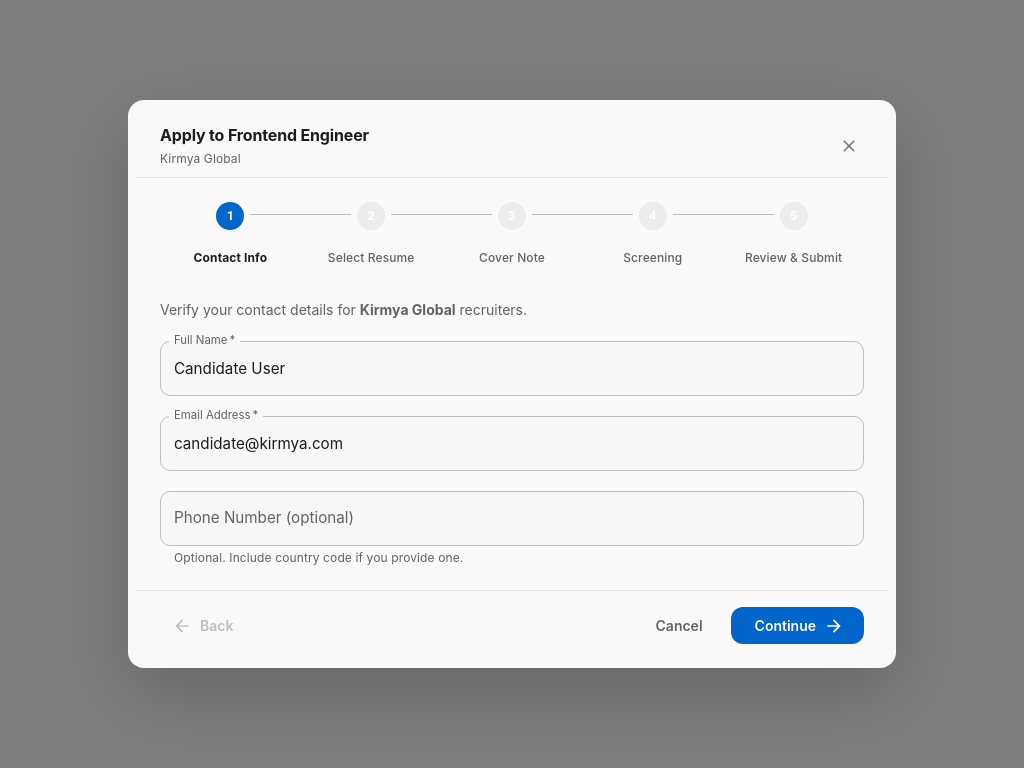
Test case: ApplyJobModal › blocks progression on step 0 if email is empty
This screenshot has width=1024, height=768.
Clear the field labelled "Email Address *" at (512, 443), box [160,416,864,471]
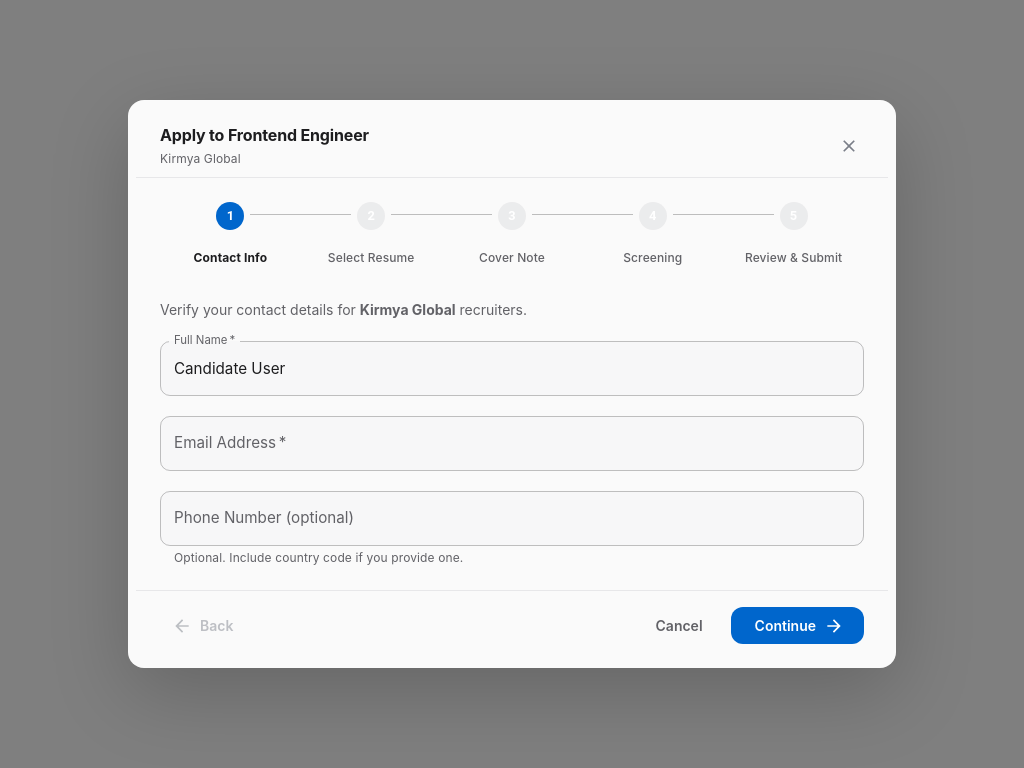
Click the button "Continue" at (797, 626), box [731,607,864,644]
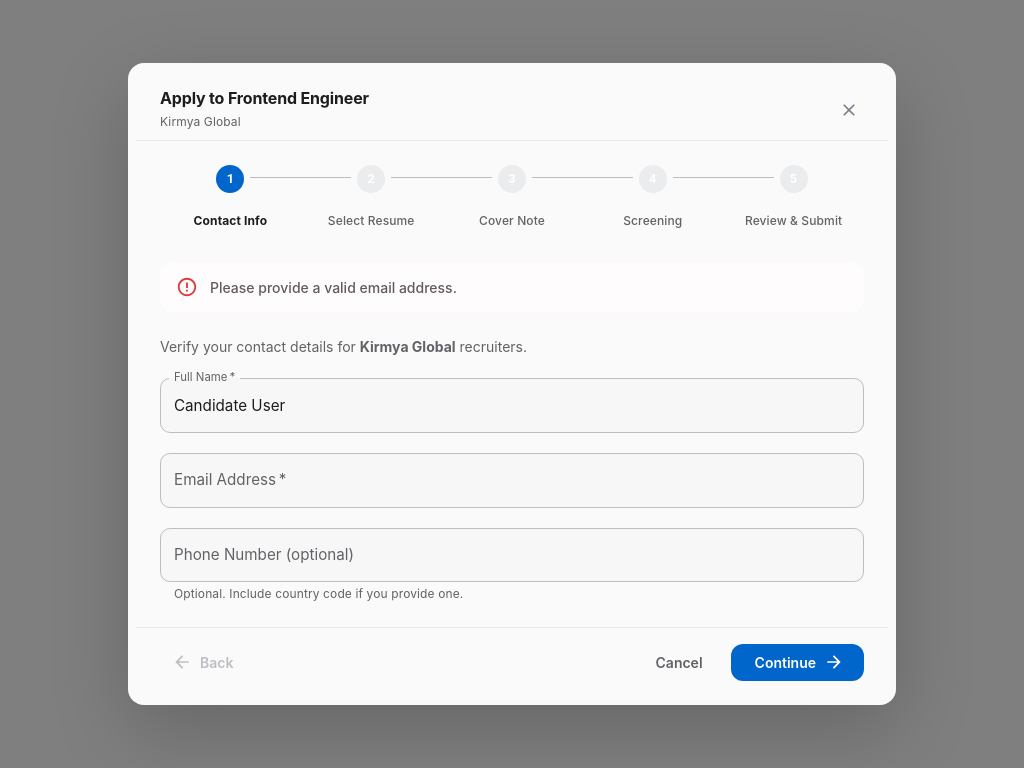
Expected: the text "Please provide a valid email address." is shown, [210,279,457,296]
